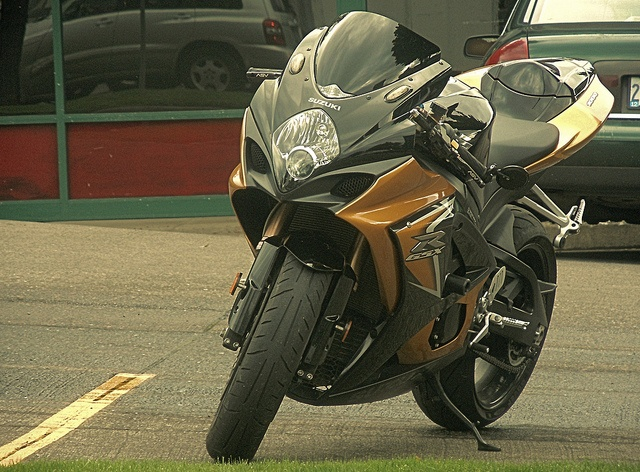bike: (120, 11, 622, 457)
